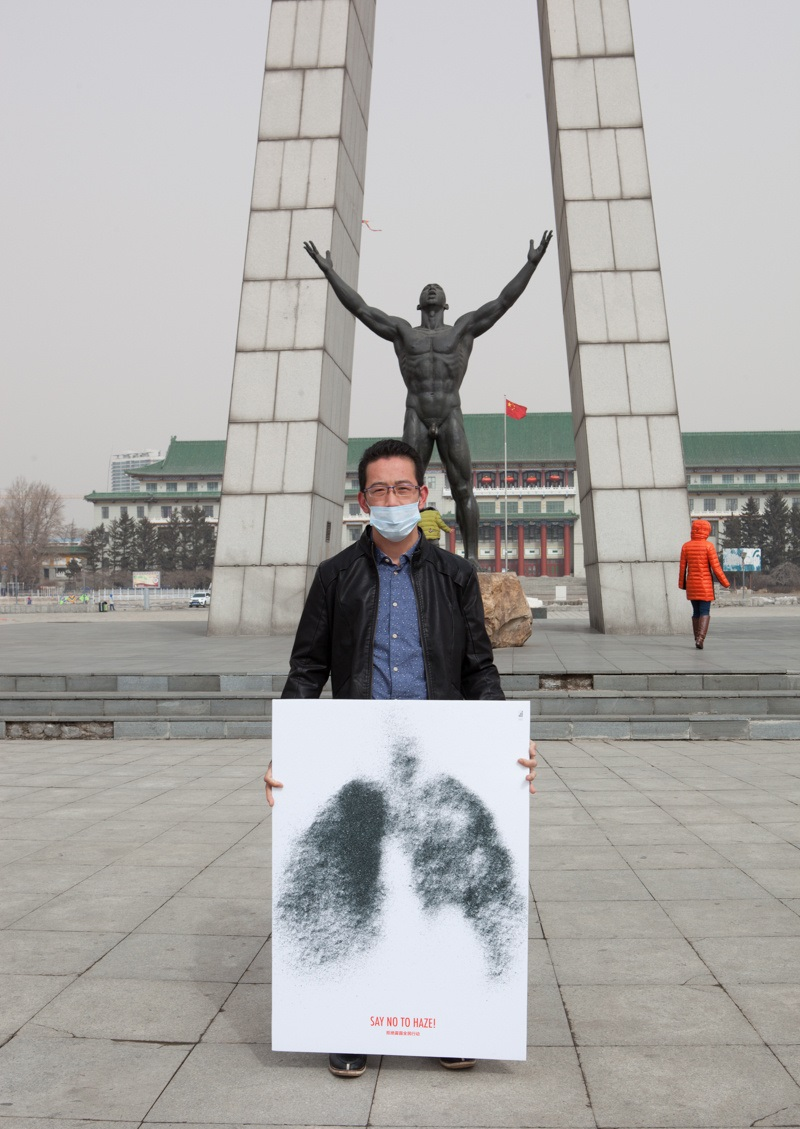face_mask: (365, 457, 417, 543)
